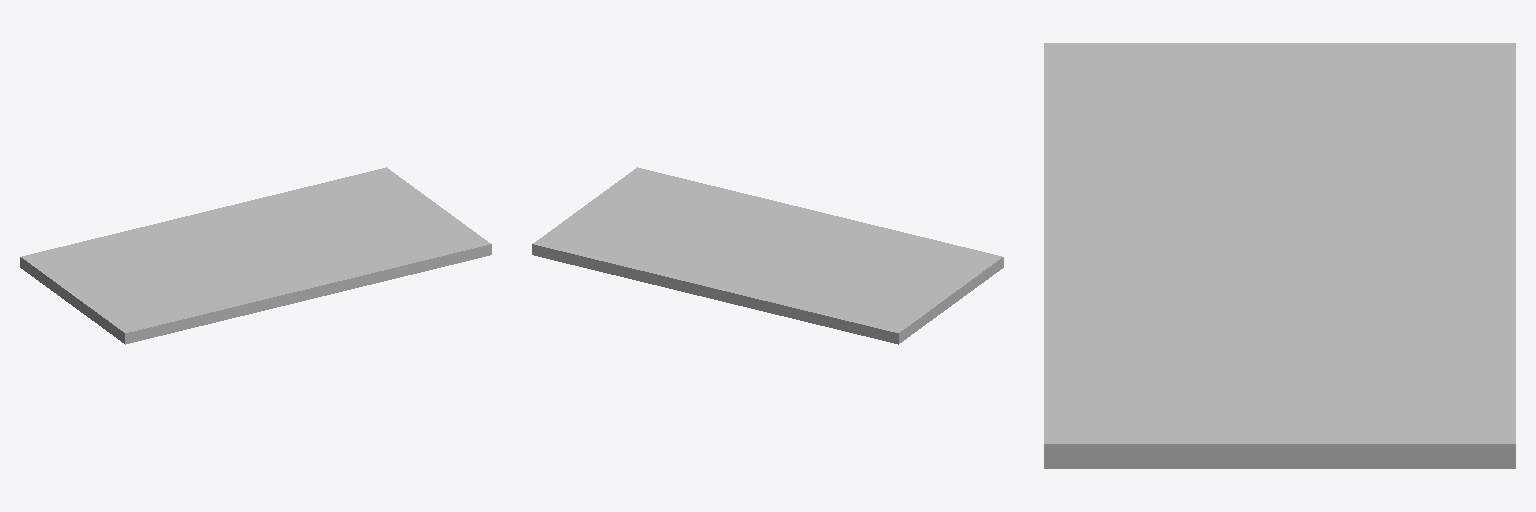
URDF robot description (icaros_demo_table):
<robot name="icaros_demo_table">
    <link name="base_link">
        <!-- NOTE: Collision geometry is simplified: just three boxes. -->
        <!-- Tabletop Collision Geometry -->
        <collision>
            <origin xyz="0 0 0.9175"/>
            <geometry>
                <box size="1.21 0.60 0.035"/>
            </geometry>
        </collision>
        <!-- NOTE: Visual Geometry is more detailed than collision geometry. -->
        <!-- Tabletop Visual Geometry -->
        <visual>
            <origin xyz="0 0 0.9175"/>
            <geometry>
                <box size="1.21 0.60 0.035"/>
            </geometry>
            <material name="gray">
                <color rgba="0.8 0.8 0.8 1.0"/>
            </material>
        </visual>
    </link>
</robot>

--- Render facts (derived) ---
The picture shows the robot from 3 angles, left to right: view 1: azimuth 30°, elevation 25°; view 2: azimuth 150°, elevation 25°; view 3: azimuth 270°, elevation 25°; orthographic projection.
Robot: icaros_demo_table — 1 links, 0 joints (none); root link base_link; default pose: all joints at 0.
Visible links, largest first — view 1: base_link; view 2: base_link; view 3: base_link.
Boxes of the visible links, bbox=[...] form: base_link: bbox=[20, 167, 491, 344]; base_link: bbox=[532, 167, 1003, 344]; base_link: bbox=[1044, 43, 1515, 468].
Size in the robot's own frame: 1.21 by 0.6 by 0.035 metres.
Geometry: primitives only (box / cylinder / sphere), no mesh files.